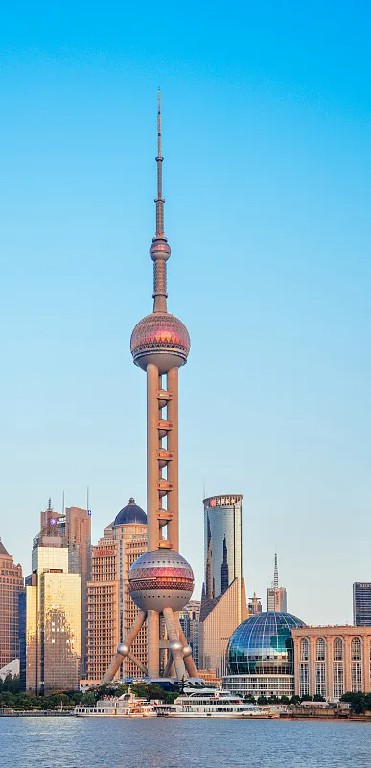Oriental: (102, 86, 199, 680)
